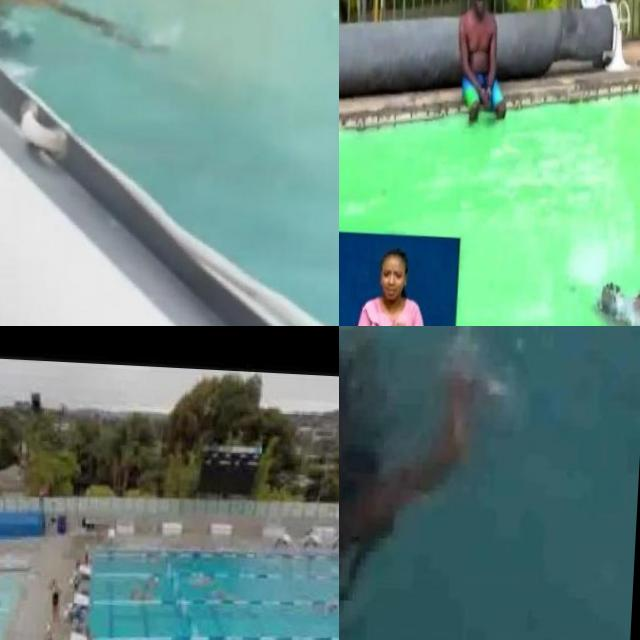drowning: (339, 327, 485, 640)
out of water: (441, 0, 516, 137)
swimming: (577, 246, 640, 326), (124, 576, 160, 600), (181, 568, 215, 592), (213, 580, 231, 604), (320, 598, 338, 621)
